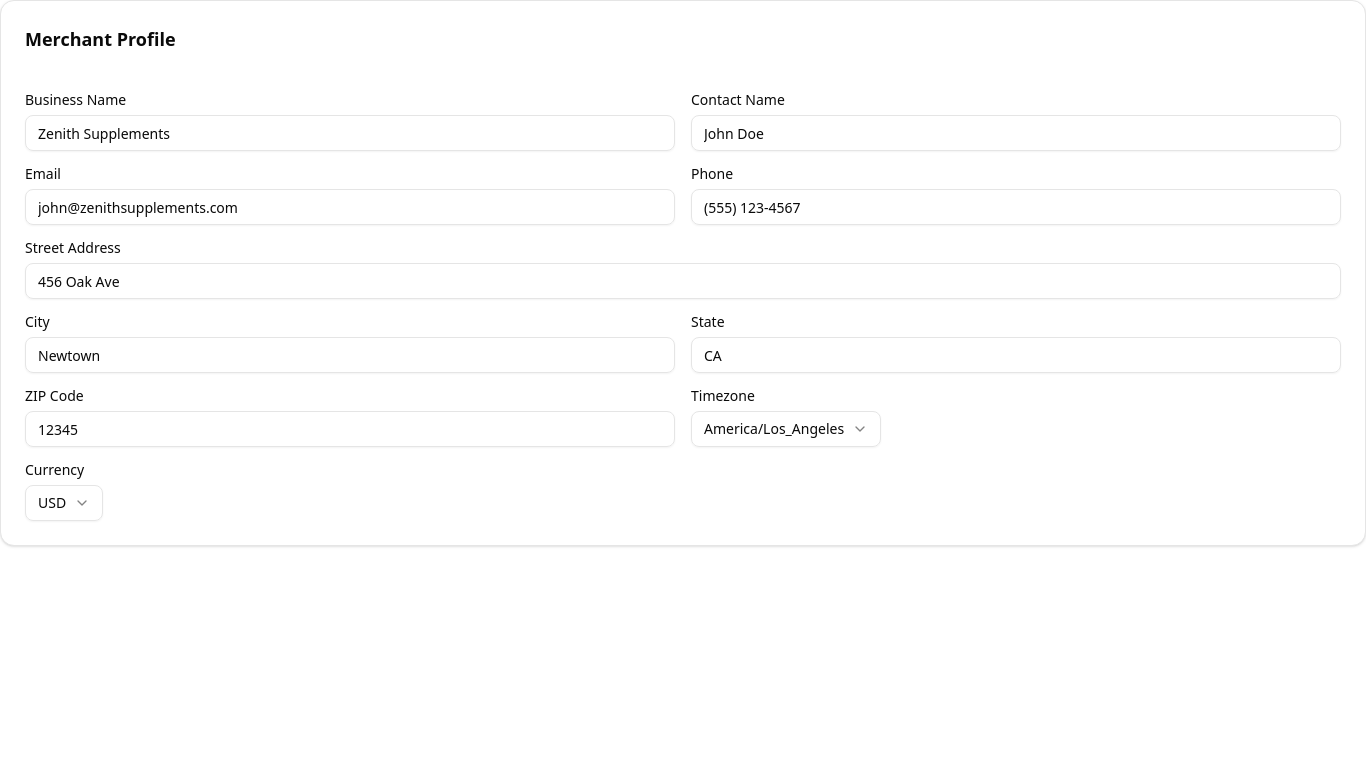
Scenario: MerchantProfileSection › resets changes when reset button is clicked
# Change business name
Clear the field showing "Zenith Supplements" at {"x": 350, "y": 133}, box [25,115,675,151]
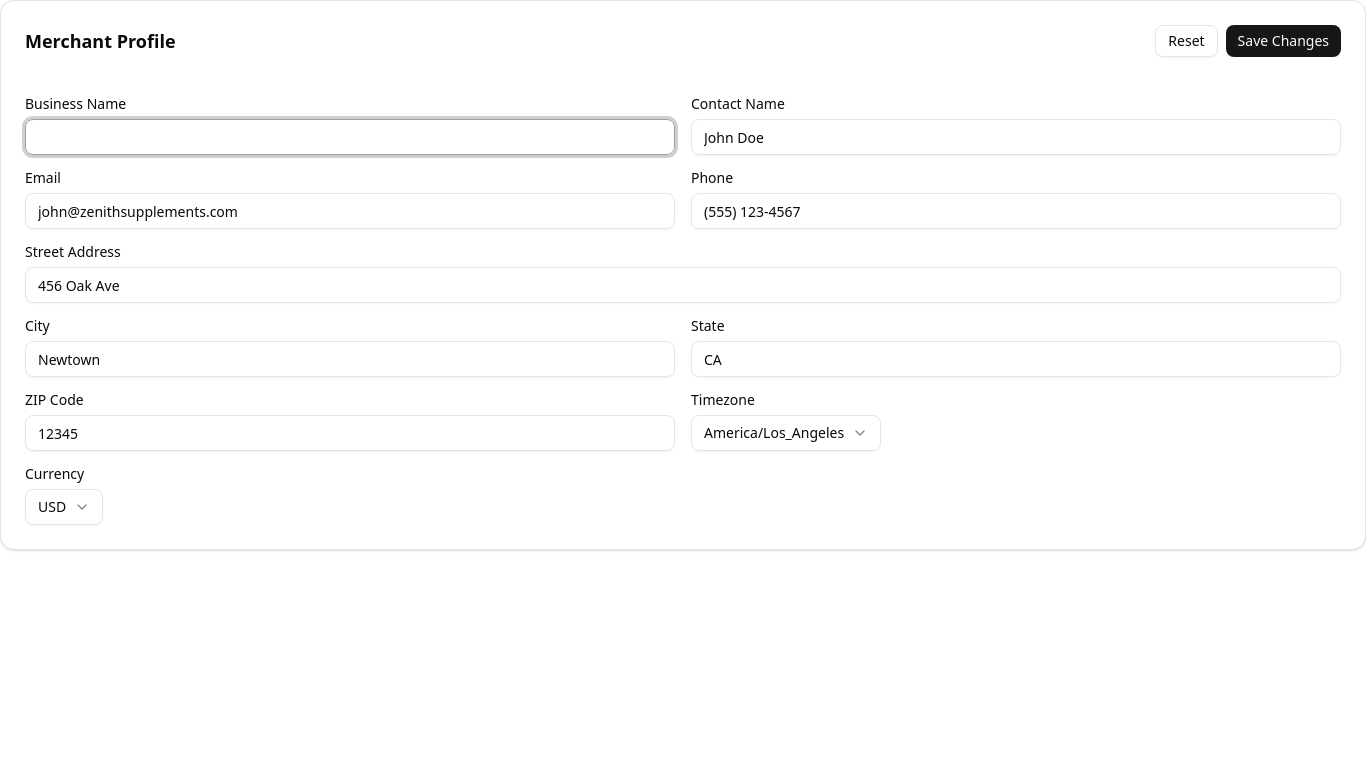
Type "Changed Name" into the field showing "Zenith Supplements".
click(350, 137); type("Changed Name")  # box [25,119,675,155]
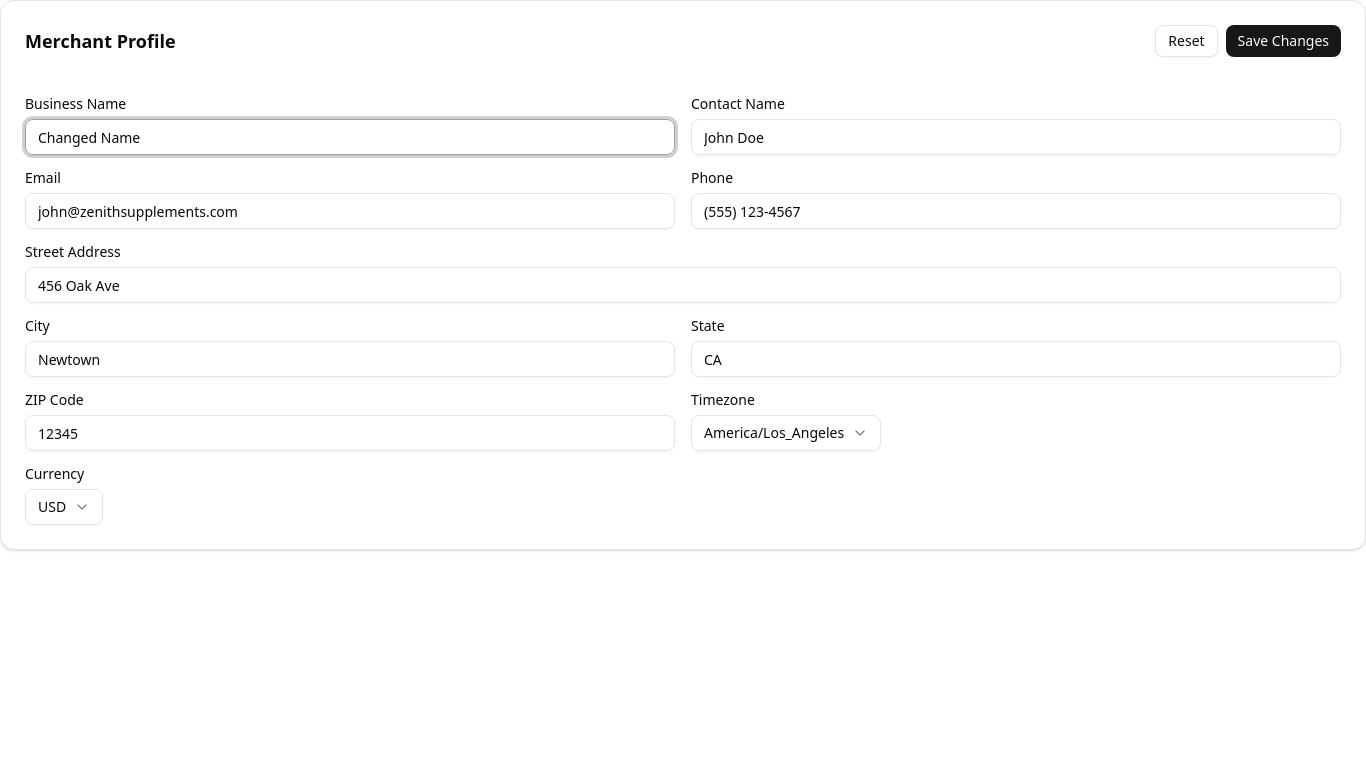
# Click reset
Click the button "Reset".
click(1186, 41)  # box [1155,25,1218,57]
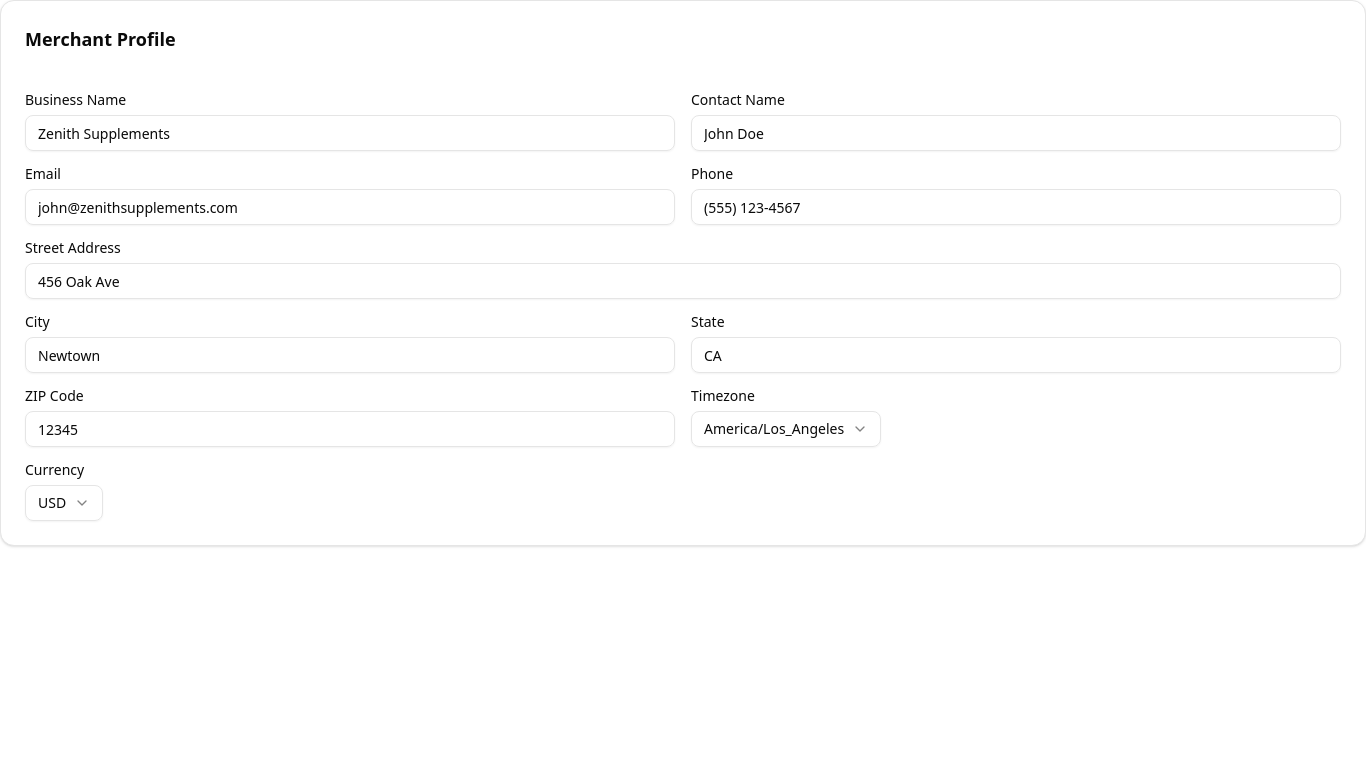
Expected: the field showing "Zenith Supplements" holds "Zenith Supplements", [25,115,675,151]
Expected: the button "Save Changes" is gone
Expected: the button "Reset" is gone
